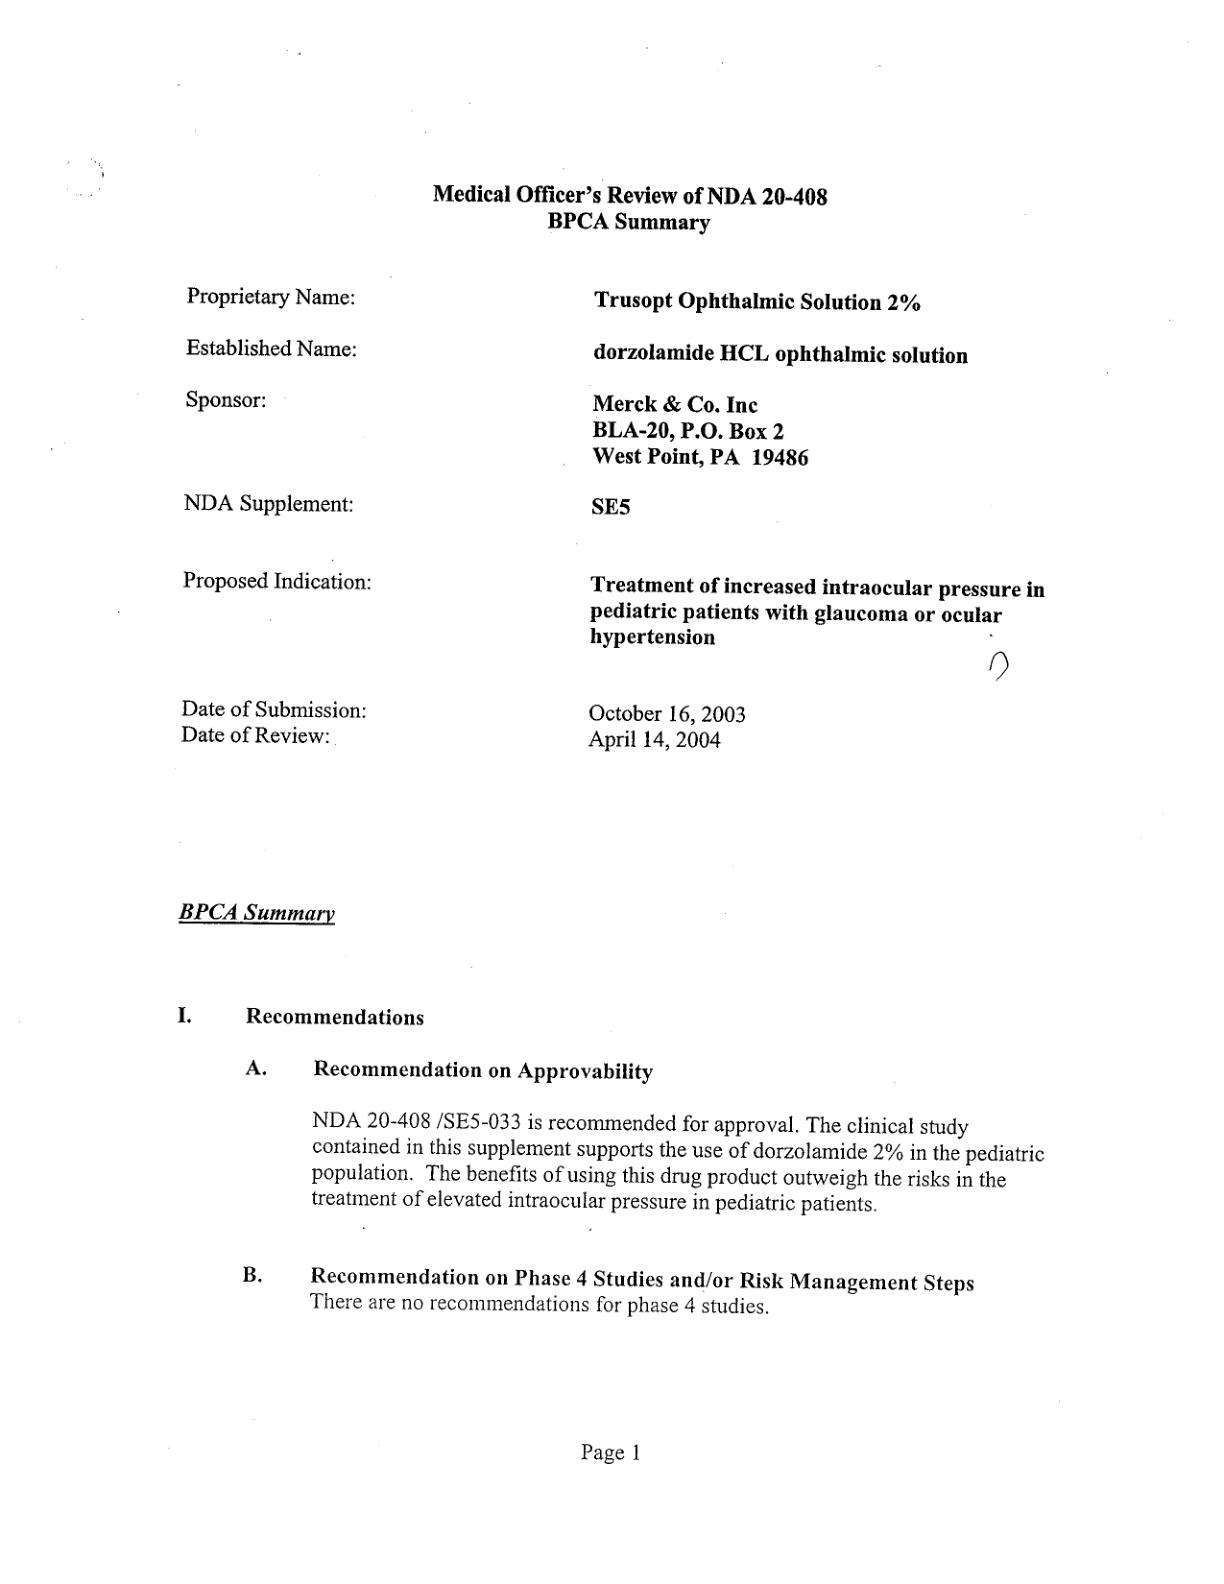nolines: (180, 283, 1047, 752)
